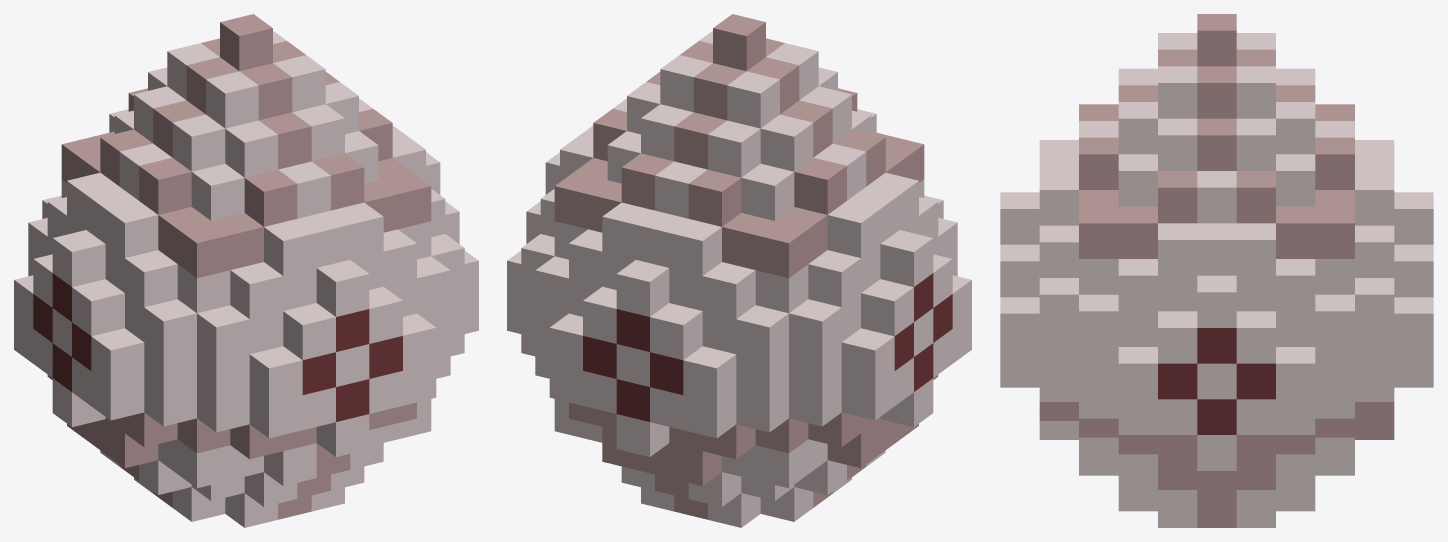
The model's file is Oeuf de paques.obj.
3 views of the same model, side by side, from view 1: azimuth 30°, elevation 25°; view 2: azimuth 150°, elevation 25°; view 3: azimuth 270°, elevation 25° (orthographic).
Visible parts, largest first — view 1: Oeuf de paques; view 2: Oeuf de paques; view 3: Oeuf de paques.
Part boxes in pixels (x1=…): Oeuf de paques: x1=14, y1=14, x2=478, y2=527; Oeuf de paques: x1=507, y1=14, x2=971, y2=527; Oeuf de paques: x1=1000, y1=14, x2=1433, y2=527.
Bounding box in the file's own units: 11 × 13 × 11.
Materials: 1 (1 with a texture image).
